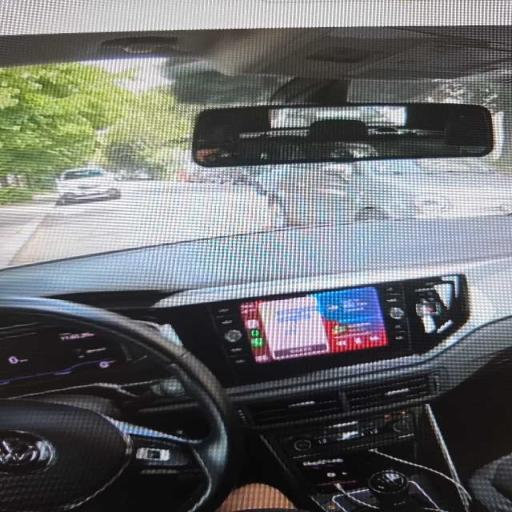car: (0, 0, 511, 511), (348, 160, 511, 219), (57, 168, 120, 204), (115, 169, 155, 180)
lane: (11, 182, 268, 264), (0, 194, 55, 268)
person: (217, 484, 298, 511)
